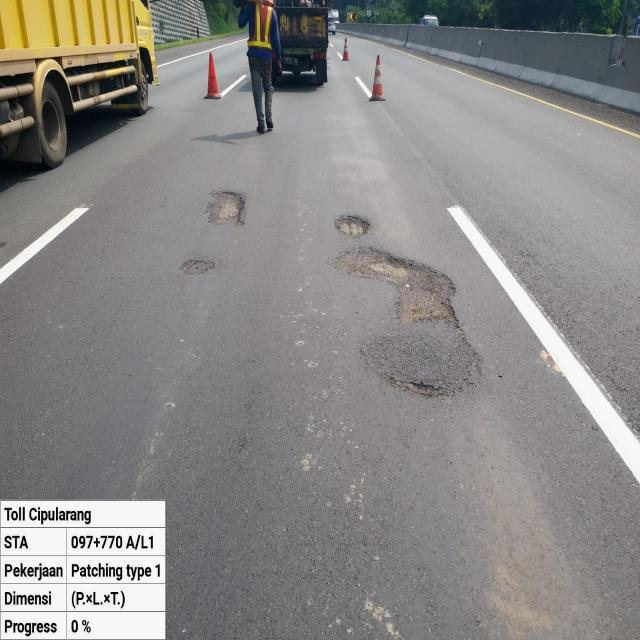Buraco: (332, 243, 463, 333), (378, 370, 458, 402), (203, 189, 248, 228), (331, 214, 374, 240), (178, 257, 218, 277)
